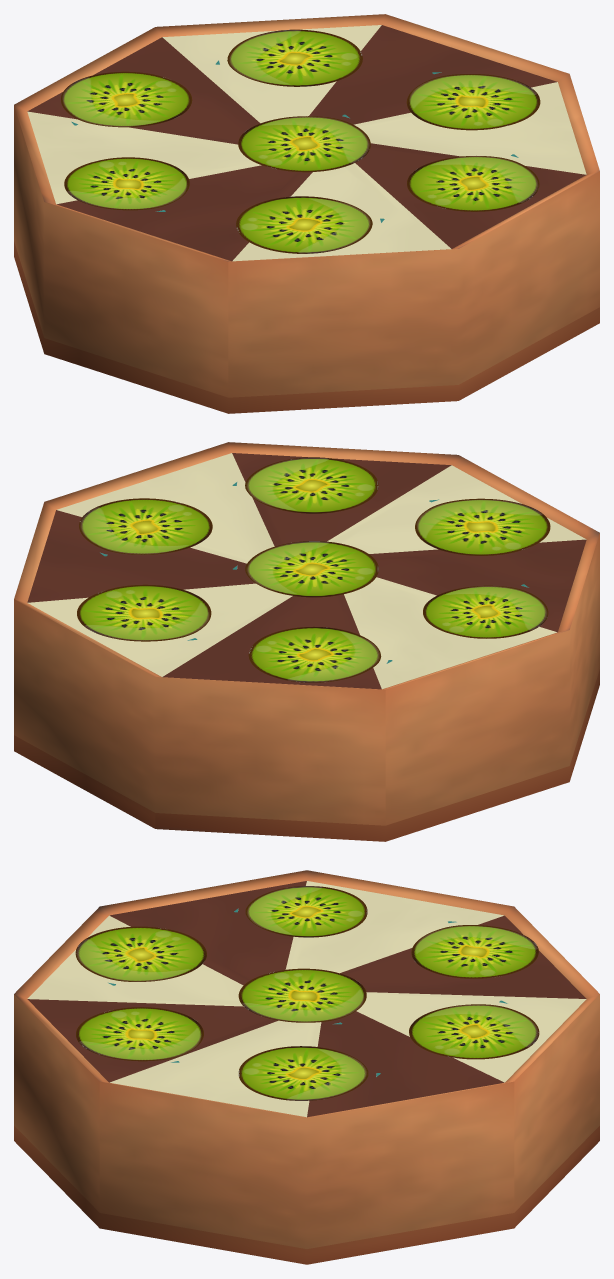
File: Cheesecake_C_3.FBX
3 renders of one model, top to bottom at view 1: azimuth 30°, elevation 25°; view 2: azimuth 150°, elevation 25°; view 3: azimuth 270°, elevation 25°, orthographic. The views are drawn at different scales.
Parts seen in each view (by area): view 1: Cheesecake_B; view 2: Cheesecake_B; view 3: Cheesecake_B.
Part boxes in pixels (box(x1,y1,x2,y2)): Cheesecake_B: box(14, 14, 599, 413); Cheesecake_B: box(14, 442, 599, 841); Cheesecake_B: box(14, 870, 599, 1264).
Bounding box in the file's own units: 85.22 × 23.58 × 85.22.
